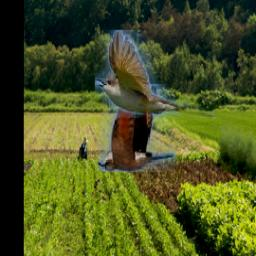Cuckoo: (96, 30, 216, 118), (99, 84, 176, 172)
